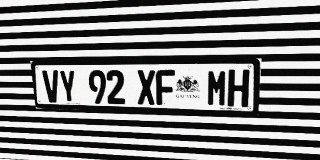2: (106, 70, 125, 104)
9: (88, 70, 107, 104)
F: (156, 70, 175, 105)
H: (227, 69, 250, 107)
M: (207, 70, 228, 106)
V: (42, 70, 61, 103)
X: (137, 70, 156, 105)
Y: (58, 70, 77, 103)
